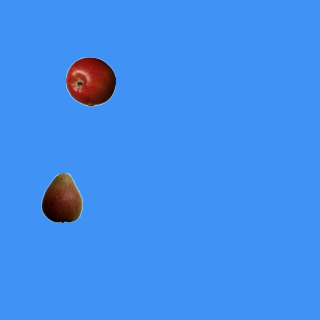Apple Braeburn: (65, 56, 115, 106)
Pear Forelle: (36, 172, 86, 222)
